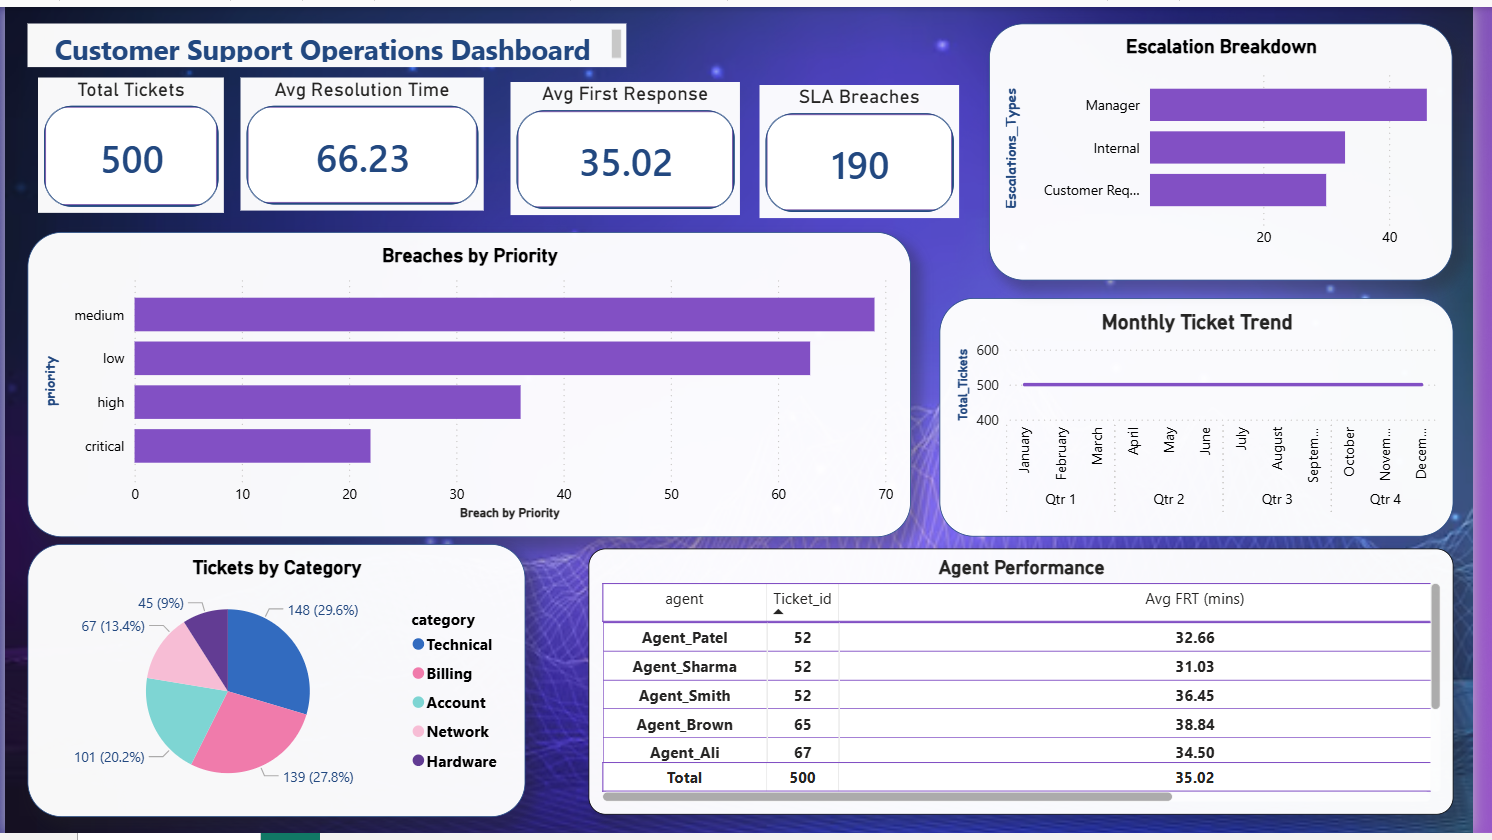

This screenshot's page, from the dashboard's own definition file:
{"tool":"powerbi","page":{"name":"Operations KPI","canvas":[1280,720],"ordinal":0},"visuals":[{"type":"cardVisual","title":"Avg First Response ","fields":{"Data":["Avg(Raw_Data.first_response_minutes)"]},"box":[440,66,200,116],"z":0},{"type":"cardVisual","title":"Avg Resolution Time","fields":{"Data":["Avg(Raw_Data.resolution_hours)"]},"box":[205,62,212,116],"z":1000},{"type":"cardVisual","title":"SLA Breaches","fields":{"Data":["Daily_KPIs.SLA Breaches"]},"box":[658,68,174,116],"z":2000},{"type":"cardVisual","title":"Total Tickets","fields":{"Data":["CountNonNull(Raw_Data.ticket_id)"]},"box":[29,62,162,118],"z":3000},{"type":"clusteredBarChart","title":"Breaches by Priority","fields":{"Category":["Raw_Data.priority"],"Y":["Daily_KPIs.Breach by Priority"]},"box":[20,196,770,266],"z":4000},{"type":"pieChart","title":"Tickets by Category","fields":{"Category":["Raw_Data.category"],"Y":["CountNonNull(Raw_Data.ticket_id)"]},"box":[20,468,434,238],"z":5000},{"type":"lineChart","title":"Monthly Ticket Trend","fields":{"Y":["Sum(Daily_KPIs.total_tickets)"],"Category":["Raw_Data.created_at.Variation.Date Hierarchy.Quarter","Raw_Data.created_at.Variation.Date Hierarchy.Month"]},"box":[814,254,448,208],"z":6000},{"type":"barChart","title":"Escalation Breakdown","fields":{"Category":["Raw_Data.escalation_type"],"Y":["CountNonNull(Raw_Data.ticket_id)"]},"box":[858,14,404,224],"z":7000},{"type":"tableEx","title":"Agent Performance","fields":{"Values":["Raw_Data.agent","Raw_Data.ticket_id","Avg(Raw_Data.first_response_minutes)","Avg(Raw_Data.resolution_hours)","Daily_KPIs.SLA Breaches"]},"box":[508,472,754,232],"z":8000},{"type":"textbox","box":[20,14,522,38],"z":9000}]}

Visuals, with their boxes in screenshot pixels (x1, y1, x2, y2), scaled from the page's 1280x720 canvas onto the 1492x840 screenshot:
"Avg First Response " cardVisual: rect(513, 77, 746, 212)
"Avg Resolution Time" cardVisual: rect(239, 72, 486, 208)
"SLA Breaches" cardVisual: rect(767, 79, 970, 215)
"Total Tickets" cardVisual: rect(34, 72, 223, 210)
"Breaches by Priority" clusteredBarChart: rect(23, 229, 921, 539)
"Tickets by Category" pieChart: rect(23, 546, 529, 824)
"Monthly Ticket Trend" lineChart: rect(949, 296, 1471, 539)
"Escalation Breakdown" barChart: rect(1000, 16, 1471, 278)
"Agent Performance" tableEx: rect(592, 551, 1471, 821)
textbox: rect(23, 16, 632, 61)
